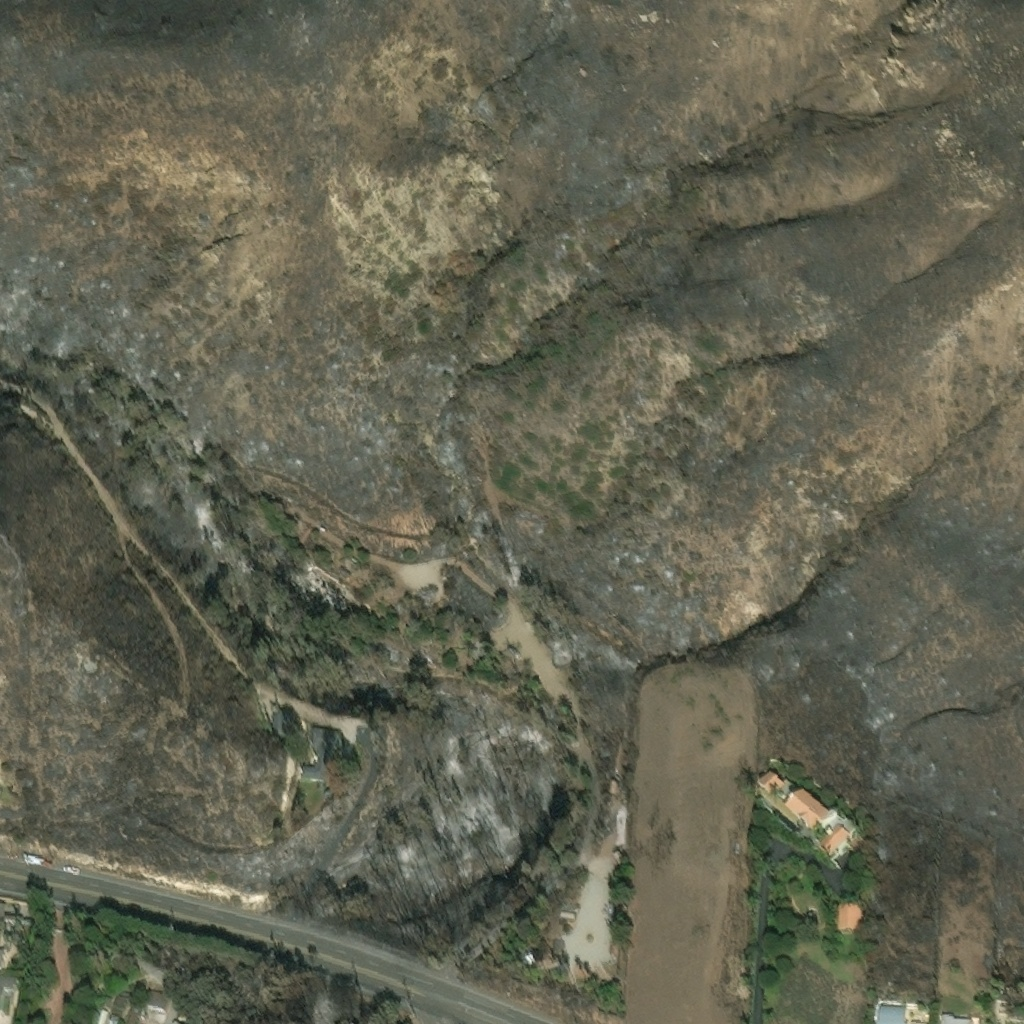0 no-damage: (759, 781, 818, 844), (299, 737, 347, 788), (786, 792, 835, 838), (814, 811, 859, 850), (821, 827, 866, 861), (757, 772, 786, 800), (993, 998, 1023, 1023), (840, 908, 863, 936), (270, 716, 294, 742), (876, 1003, 905, 1023), (144, 989, 170, 1010), (941, 1014, 971, 1023), (92, 1007, 107, 1023), (125, 1012, 138, 1023)
3 destroyed: (296, 568, 356, 622), (253, 483, 289, 510)
4 un-classified: (0, 903, 24, 971)
